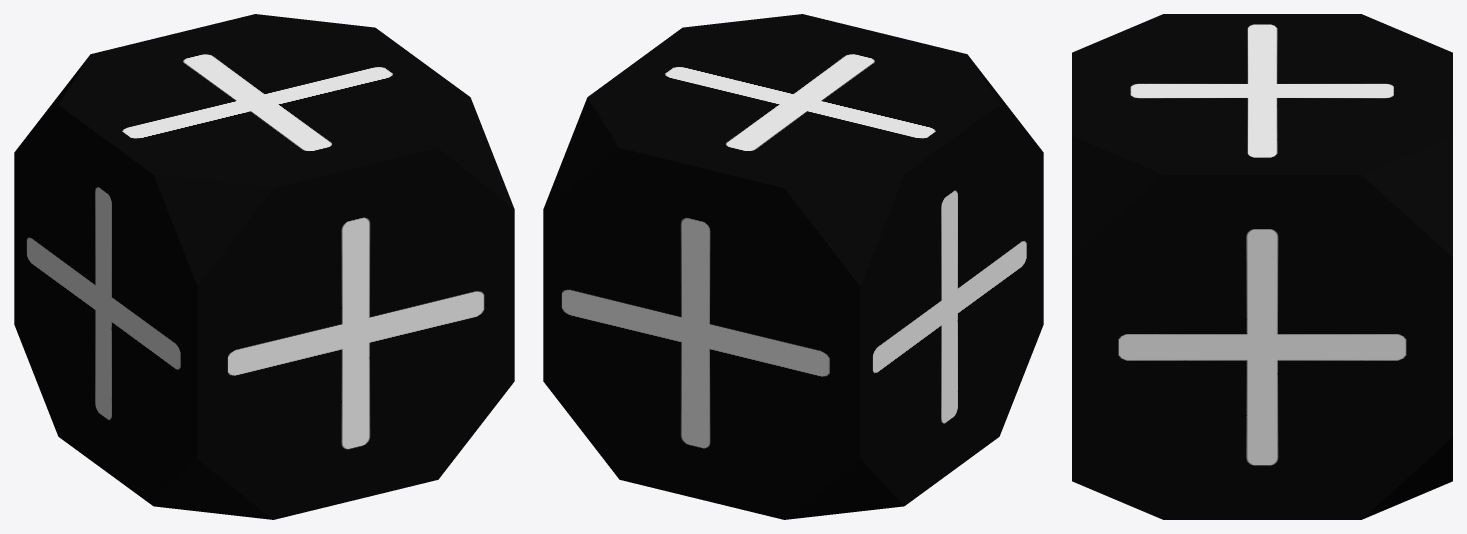
Rendered from BlockBase - Add.fbx.
3 renders of one model, left to right at view 1: azimuth 30°, elevation 25°; view 2: azimuth 150°, elevation 25°; view 3: azimuth 270°, elevation 25°, orthographic. The views are drawn at different scales.
Visible parts, largest first — view 1: Cube.009; view 2: Cube.009; view 3: Cube.009.
Part boxes in pixels (x1=…): Cube.009: x1=14, y1=14, x2=514, y2=519; Cube.009: x1=543, y1=14, x2=1043, y2=519; Cube.009: x1=1072, y1=14, x2=1452, y2=519.
Size of the model in its own units: 50 by 50 by 50.
Materials: 1 (1 with a texture image).
